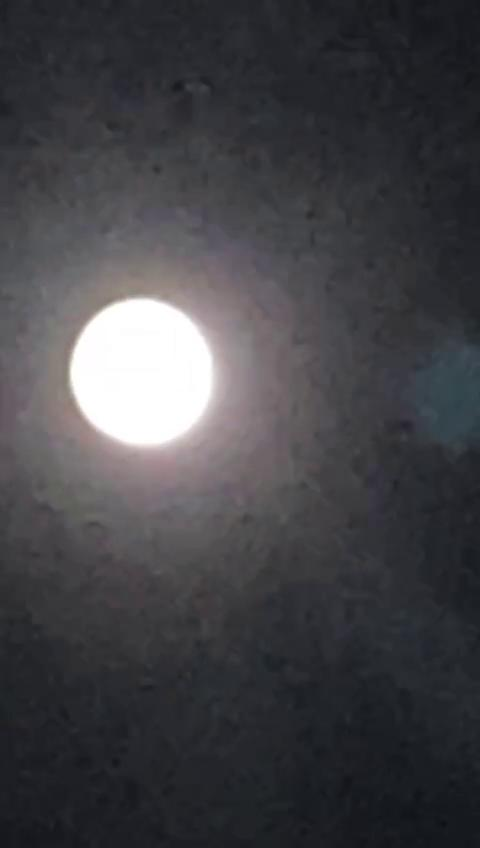moon: (56, 276, 228, 467)
